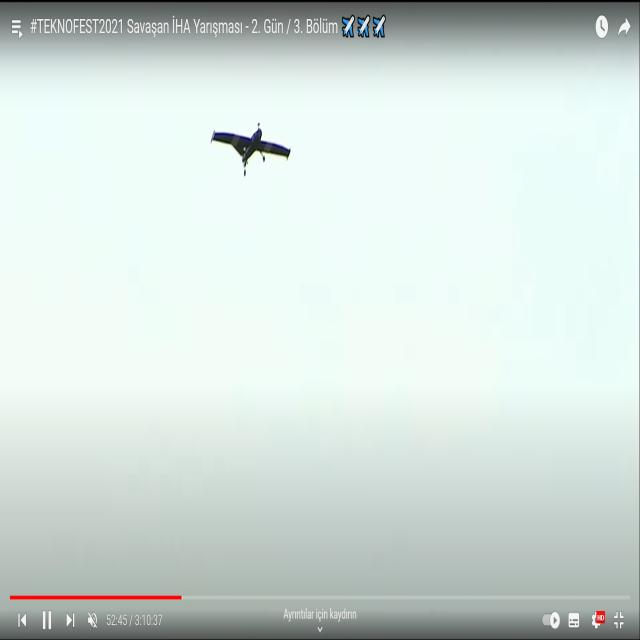iha: (242, 125, 260, 177)
